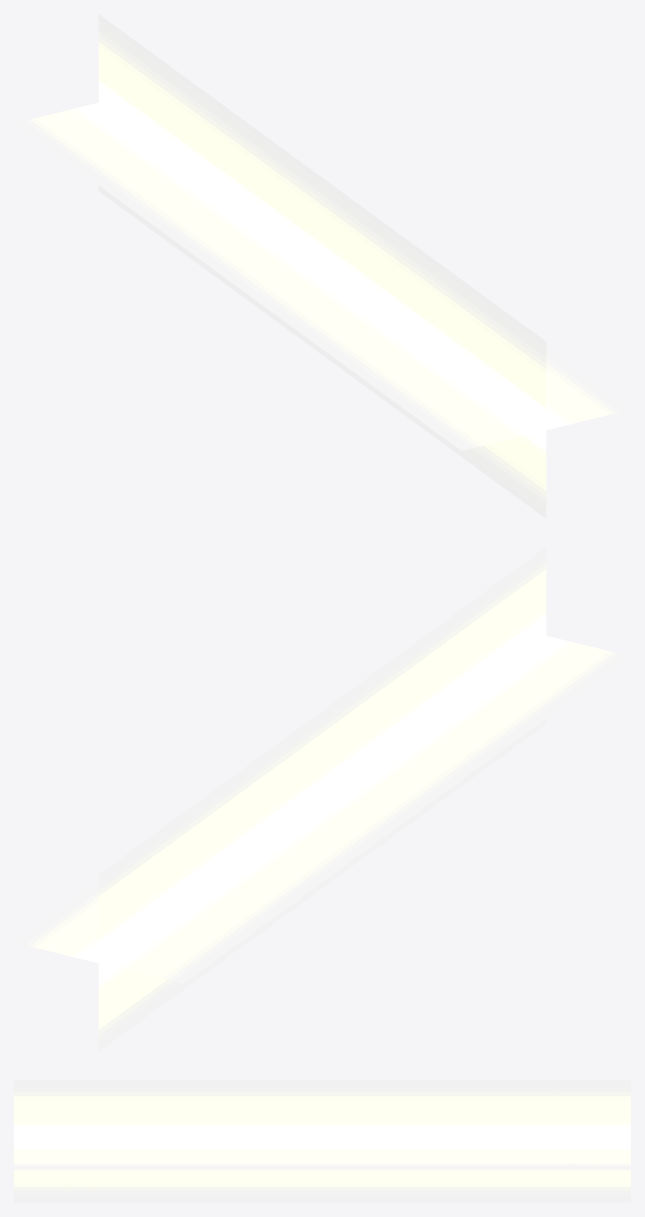
The model's file is sfx_ct0117_attack1.glb.
3 renders of one model, top to bottom at view 1: azimuth 30°, elevation 25°; view 2: azimuth 150°, elevation 25°; view 3: azimuth 270°, elevation 25°, orthographic. The views are drawn at different scales.
Visible parts, largest first — view 1: sfx_ct0117_attack1_obj0; view 2: sfx_ct0117_attack1_obj0; view 3: sfx_ct0117_attack1_obj0.
Part boxes in pixels (<box>): sfx_ct0117_attack1_obj0: <box>14,14,630,518</box>; sfx_ct0117_attack1_obj0: <box>14,547,630,1051</box>; sfx_ct0117_attack1_obj0: <box>14,1080,630,1202</box>.
Bounding box in the file's own units: 0.0605 × 0.0605 × 0.2765.
1 material, 1 textured.
